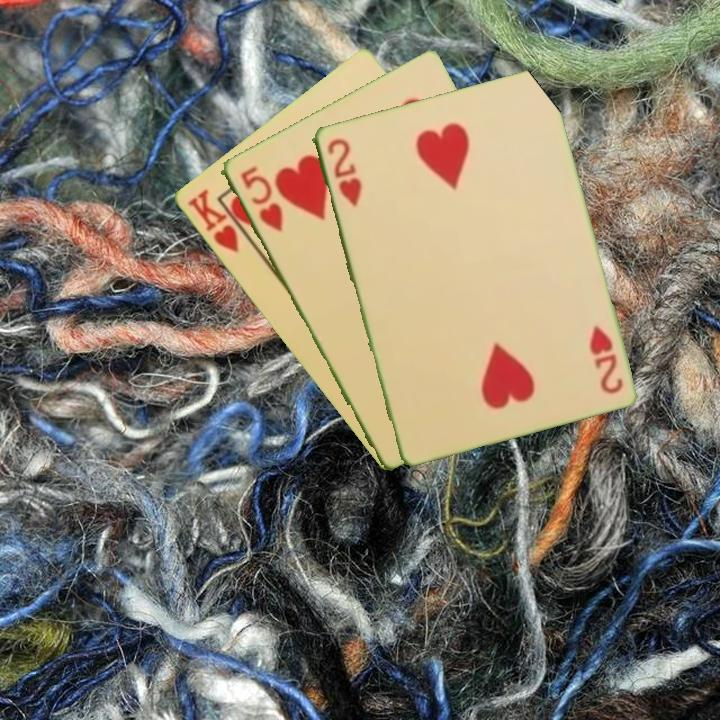2h: (323, 134, 364, 210), (585, 321, 625, 397)
5h: (236, 162, 285, 235)
Kh: (183, 185, 256, 256)
